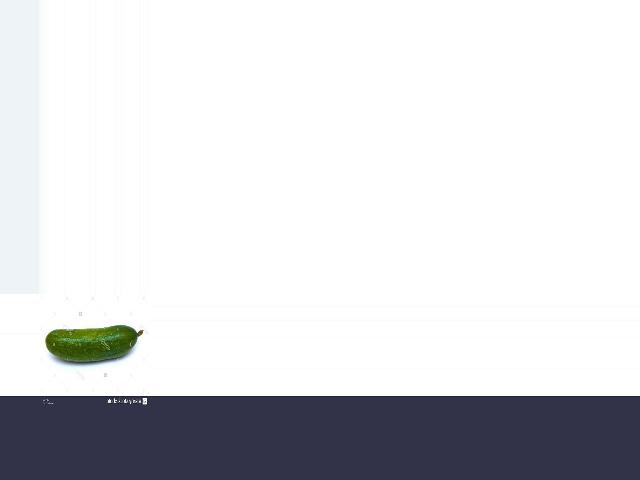cucumber: (44, 325, 143, 362)
